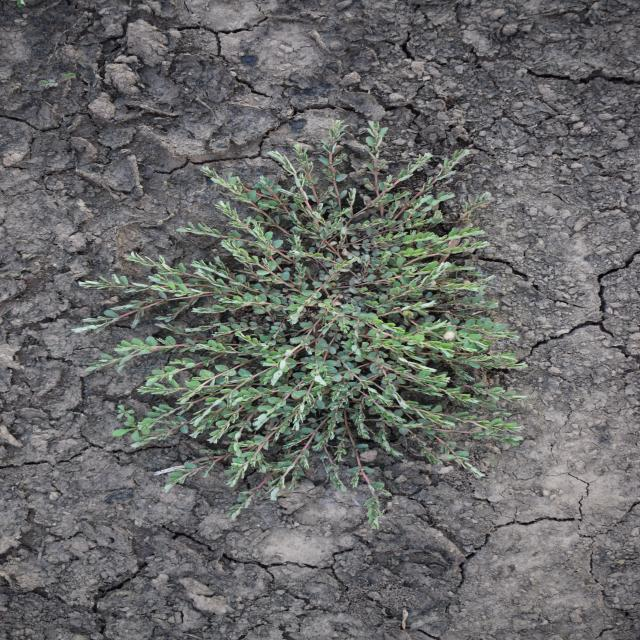SpottedSpurge: (70, 119, 531, 531)
